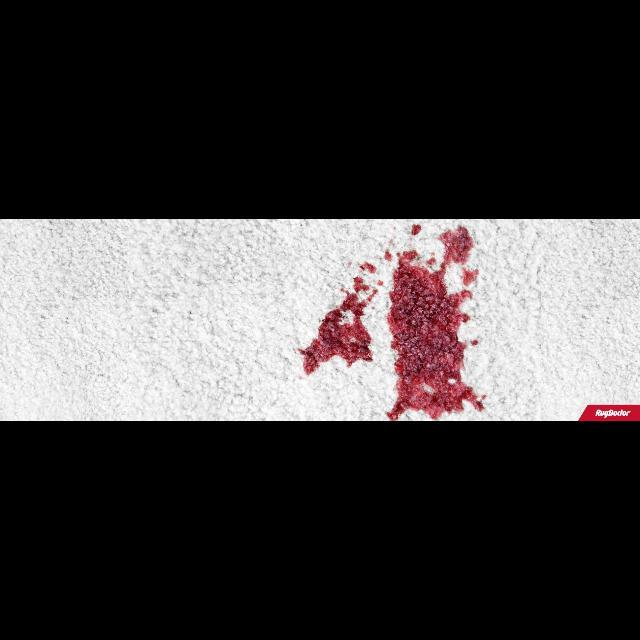blood: (385, 225, 484, 421), (296, 276, 378, 376), (460, 267, 480, 286), (359, 261, 377, 274), (384, 249, 393, 262), (426, 256, 436, 266), (470, 339, 479, 347)
